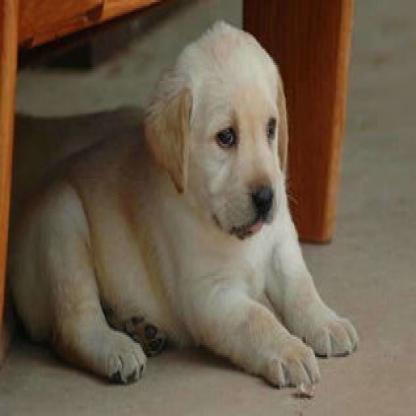Labarador Retriever: (13, 24, 357, 390)
